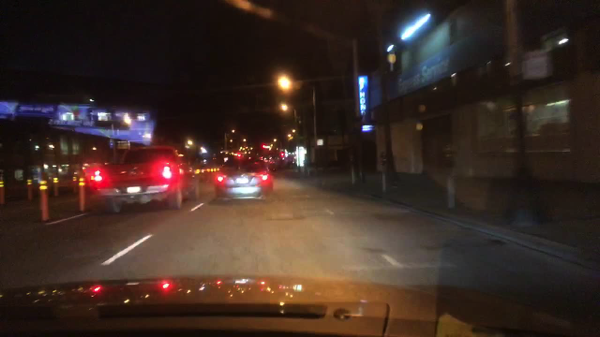car: (214, 158, 274, 203), (266, 160, 276, 173)
traffic light: (279, 150, 285, 158), (236, 152, 241, 159), (260, 143, 264, 151)
traffic sign: (316, 139, 324, 147)
truck: (84, 147, 200, 213)
